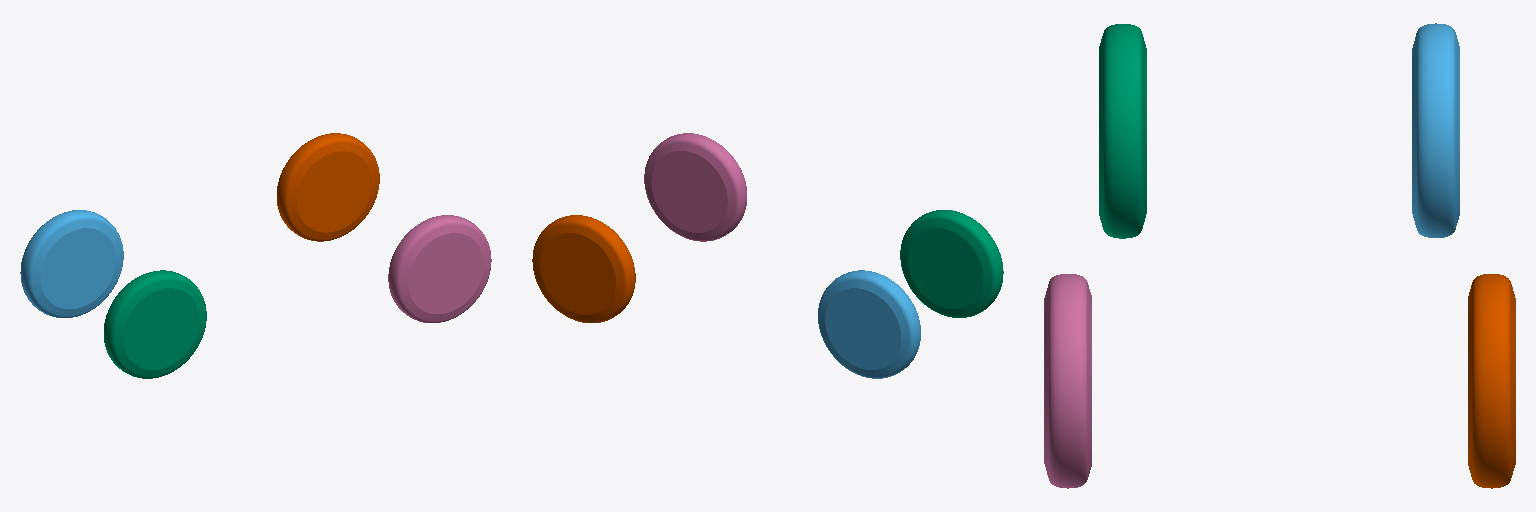
URDF robot description (ecocar):
<?xml version="1.0" ?>
<!-- =================================================================================== -->
<!-- |    This document was autogenerated by xacro from ecocar.xacro                   | -->
<!-- |    EDITING THIS FILE BY HAND IS NOT RECOMMENDED                                 | -->
<!-- =================================================================================== -->
<!-- =================================================================================== -->
<!-- |    DTU Ecocar URFD                                                              | -->
<!-- |    Notes: height, body mass and wheel mass are not the actual values            | -->
<!-- |    Author: [author] ([email redacted])                        | -->
<!-- =================================================================================== -->
<robot name="ecocar" xmlns:xacro="http://www.ros.org/wiki/xacro">
  <!-- Begin Gazebo definitions -->
  <!-- ros_control plugin -->
  <gazebo>
    <plugin filename="libgazebo_ros_control.so" name="gazebo_ros_control">
      <robotNamespace>/ecocar</robotNamespace>
      <robotSimType>gazebo_ros_control/DefaultRobotHWSim</robotSimType>
    </plugin>
  </gazebo>
  <!-- Rear left wheel -->
  <gazebo reference="wheel_rear_left">

  </gazebo>
  <!-- Rear right wheel -->
  <gazebo reference="wheel_rear_right">

  </gazebo>
  <!-- Front left axle -->
  <gazebo reference="front_left_axle">

  </gazebo>
  <!-- Front right axle -->
  <gazebo reference="front_right_axle">

  </gazebo>
  <!-- Front left wheel -->
  <gazebo reference="front_left_wheel">

  </gazebo>
  <!-- Front right wheel -->
  <gazebo reference="front_right_wheel">

  </gazebo>
  <!-- End Gazebo definitions -->
  <link name="base_link">
    <inertial>
      <mass value="10"/>
      <inertia ixx="10.2348075" ixy="0.0" ixz="0.0" iyy="2.07900333333" iyz="0.0" izz="10.9638108333"/>
    </inertial>
    <visual>
      <origin rpy="0 0 -1.57079632679" xyz="-0.1 0 0.1"/>
      <geometry>
        <mesh filename="package://ecocar_description/meshes/ecocar_texture.dae" scale="1 1 1"/>
      </geometry>
    </visual>
    <collision>
      <origin rpy="0 0 -1.57079632679" xyz="-0.1 0 0.1"/>
      <geometry>
        <mesh filename="package://ecocar_description/meshes/ecocar16.dae" scale="1 1 1"/>
      </geometry>
    </collision>
  </link>
  <link name="wheel_rear_left">
    <inertial>
      <mass value="1"/>
      <inertia ixx="0.0228494233333" ixy="0.0" ixz="0.0" iyy="0.0228494233333" iyz="0.0" izz="0.03903218"/>
    </inertial>
    <visual>
      <origin rpy="0 1.57079632679 0" xyz="0 0 0"/>
      <geometry>
        <mesh filename="package://ecocar_description/meshes/wheel_meshlab.dae" scale="0.001 0.001 0.001"/>
      </geometry>
    </visual>
    <collision>
      <geometry>
        <cylinder length="0.2" radius="0.2794"/>
      </geometry>
    </collision>
  </link>
  <link name="wheel_rear_right">
    <inertial>
      <mass value="1"/>
      <inertia ixx="0.0228494233333" ixy="0.0" ixz="0.0" iyy="0.0228494233333" iyz="0.0" izz="0.03903218"/>
    </inertial>
    <visual>
      <origin rpy="0 -1.57079632679 0" xyz="0 0 0"/>
      <geometry>
        <mesh filename="package://ecocar_description/meshes/wheel_meshlab.dae" scale="0.001 0.001 0.001"/>
      </geometry>
    </visual>
    <collision>
      <geometry>
        <cylinder length="0.2" radius="0.2794"/>
      </geometry>
    </collision>
  </link>
  <joint name="base_to_wheel_rear_left" type="continuous">
    <parent link="base_link"/>
    <child link="wheel_rear_left"/>
    <axis xyz="0 0 1"/>
    <origin rpy="-1.57079632679 0 0" xyz="-0.758 0.4 0.2794"/>
  </joint>
  <joint name="base_to_wheel_rear_right" type="continuous">
    <parent link="base_link"/>
    <child link="wheel_rear_right"/>
    <axis xyz="0 0 1"/>
    <origin rpy="-1.57079632679 0 0" xyz="-0.758 -0.4 0.2794"/>
  </joint>
  <link name="front_left_axle">
    <inertial>
      <mass value="1"/>
      <inertia ixx="0.004" ixy="0.0" ixz="0.0" iyy="0.004" iyz="0.0" izz="0.004"/>
    </inertial>
  </link>
  <link name="front_right_axle">
    <inertial>
      <mass value="1"/>
      <inertia ixx="0.004" ixy="0.0" ixz="0.0" iyy="0.004" iyz="0.0" izz="0.004"/>
    </inertial>
  </link>
  <link name="front_left_wheel">
    <inertial>
      <mass value="1"/>
      <inertia ixx="0.0228494233333" ixy="0.0" ixz="0.0" iyy="0.0228494233333" iyz="0.0" izz="0.03903218"/>
    </inertial>
    <visual>
      <origin rpy="0 1.57079632679 0" xyz="0 0 0"/>
      <geometry>
        <mesh filename="package://ecocar_description/meshes/wheel_meshlab.dae" scale="0.001 0.001 0.001"/>
      </geometry>
    </visual>
    <collision>
      <geometry>
        <cylinder length="0.2" radius="0.2794"/>
      </geometry>
    </collision>
  </link>
  <link name="front_right_wheel">
    <inertial>
      <mass value="1"/>
      <inertia ixx="0.0228494233333" ixy="0.0" ixz="0.0" iyy="0.0228494233333" iyz="0.0" izz="0.03903218"/>
    </inertial>
    <visual>
      <origin rpy="0 1.57079632679 0" xyz="0 0 0"/>
      <geometry>
        <mesh filename="package://ecocar_description/meshes/wheel_meshlab.dae" scale="0.001 0.001 0.001"/>
      </geometry>
    </visual>
    <collision>
      <geometry>
        <cylinder length="0.2" radius="0.2794"/>
      </geometry>
    </collision>
  </link>
  <joint name="front_left_steer_joint" type="continuous">
    <parent link="base_link"/>
    <child link="front_left_axle"/>
    <origin rpy="0 0 0" xyz="0.758 0.542 0.2794"/>
    <axis xyz="0 0 1"/>
    <limit effort="10000000" lower="-0.785398163397" upper="0.785398163397" velocity="1000000"/>
  </joint>
  <joint name="front_right_steer_joint" type="continuous">
    <parent link="base_link"/>
    <child link="front_right_axle"/>
    <origin rpy="0 0 0" xyz="0.758 -0.542 0.2794"/>
    <axis xyz="0 0 1"/>
    <limit effort="10000000" lower="-0.785398163397" upper="0.785398163397" velocity="1000000"/>
  </joint>
  <joint name="front_left_wheel_joint" type="continuous">
    <parent link="front_left_axle"/>
    <child link="front_left_wheel"/>
    <origin rpy="-1.57079632679 0 0" xyz="0 0 0"/>
    <axis xyz="0 0 1"/>
  </joint>
  <joint name="front_right_wheel_joint" type="continuous">
    <parent link="front_right_axle"/>
    <child link="front_right_wheel"/>
    <origin rpy="-1.57079632679 0 0" xyz="0 0 0"/>
    <axis xyz="0 0 1"/>
  </joint>
</robot>

--- What the picture shows (computed from the rendered views, not written in the file) ---
3 views of the same robot in one strip: view 1: azimuth 30°, elevation 25°; view 2: azimuth 150°, elevation 25°; view 3: azimuth 270°, elevation 25° (orthographic).
Model ecocar with 7 links and 6 joints (6 continuous), rooted at base_link, posed every joint at zero.
Links seen in each view (by area): view 1: wheel_rear_right, front_right_wheel, wheel_rear_left, front_left_wheel; view 2: wheel_rear_left, front_left_wheel, wheel_rear_right, front_right_wheel; view 3: wheel_rear_right, front_left_wheel, front_right_wheel, wheel_rear_left.
Boxes of the visible links, bbox=[...] form: wheel_rear_right: bbox=[104, 270, 206, 378]; front_right_wheel: bbox=[388, 215, 491, 322]; wheel_rear_left: bbox=[20, 210, 123, 317]; front_left_wheel: bbox=[277, 133, 379, 241]; wheel_rear_left: bbox=[818, 270, 920, 378]; front_left_wheel: bbox=[532, 215, 635, 322]; wheel_rear_right: bbox=[900, 210, 1003, 317]; front_right_wheel: bbox=[644, 133, 746, 241]; wheel_rear_right: bbox=[1099, 24, 1146, 238]; front_left_wheel: bbox=[1468, 274, 1515, 488]; front_right_wheel: bbox=[1044, 274, 1091, 488]; wheel_rear_left: bbox=[1412, 23, 1459, 237].
Bounding box of the posed robot: 2.07 × 1.21 × 0.55 m (x, y, z).
Meshes: 2 distinct files referenced, 4 mesh visuals loaded (1 Collada DAE); not drawn: 1 (reference not matched to a file when rendering).
